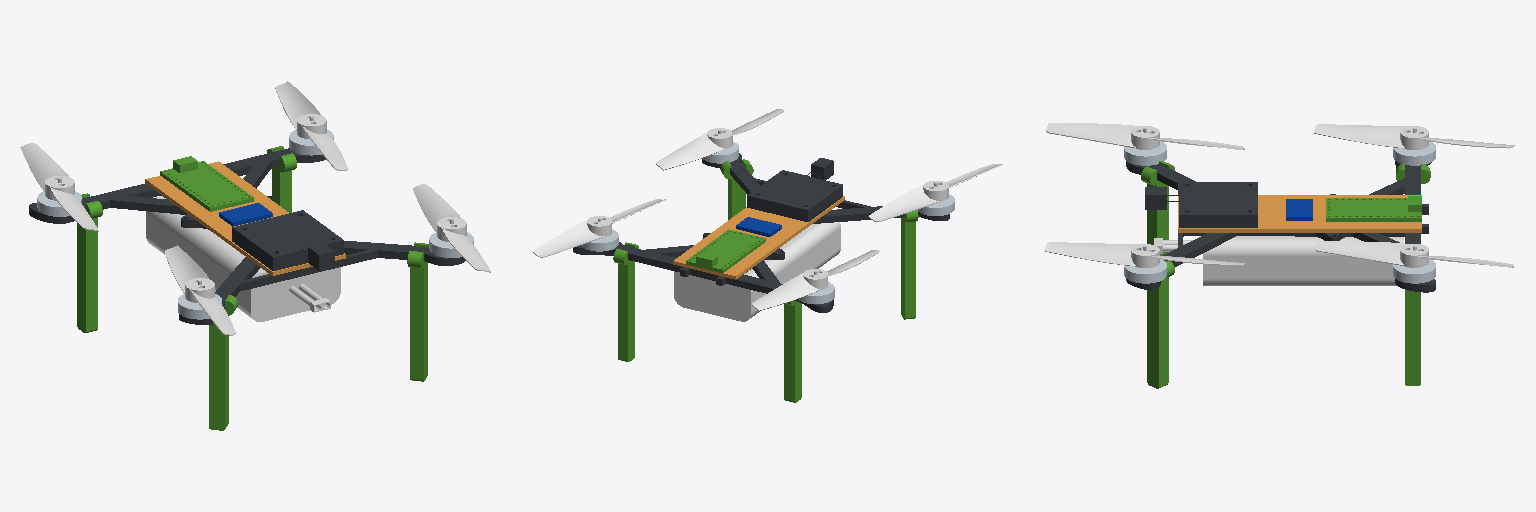
The robot description file, URDF, robot "drone":
<!--URDF generated by ONSHAPE BY PTC INC, 1.221-->
<robot name="drone">
    <link name="2s_battery">
        <inertial>
            <mass value="0.0532467" />
            <origin xyz="1.59347e-06 -0.000164896 -0.00949863" rpy="0 -0 0" />
            <inertia ixx="2.61483e-05" ixy="3.90327e-09" ixz="-3.24384e-11" iyy="7.2656e-06" iyz="3.35171e-09" izz="3.03586e-05" />
        </inertial>
        <visual>
            <origin xyz="-1.77369e-18 2.18447e-18 -0.019" rpy="0 -0 0" />
            <geometry>
                <mesh filename="package://f_drone_description/models/drone/meshes/_2S_Battery.stl" scale="1 1 1" />
            </geometry>
            <material name="0.901961_0.901961_0.901961_0.000000_0.000000">
                <color rgba="0.901961 0.901961 0.901961 1" />
            </material>
        </visual>
    </link>
    <link name="base_link">
        <inertial>
            <mass value="0.0116297" />
            <origin xyz="6.54761e-07 -7.1429e-07 0.0015" rpy="0 -0 0" />
            <inertia ixx="1.59005e-05" ixy="-2.0895e-09" ixz="-3.7681e-12" iyy="9.23466e-06" iyz="1.08237e-12" izz="2.51177e-05" />
        </inertial>
        <visual>
            <origin xyz="4.74355e-06 -0.00543751 0.003" rpy="0 -0 0" />
            <geometry>
                <mesh filename="package://f_drone_description/models/drone/meshes/base_link.stl" scale="1 1 1" />
            </geometry>
            <material name="0.262745_0.282353_0.301961_0.000000_0.000000">
                <color rgba="0.262745 0.282353 0.301961 1" />
            </material>
        </visual>
        <!-- Simple prisms for contact: one per leg, one around the body.
             Kept identical to the collisions in drone.sdf. -->
        <collision name="leg_1_collision">
            <origin xyz="-0.0404 0.0420 -0.0215" rpy="0 0 0" />
            <geometry>
                <box size="0.0050 0.0129 0.0510" />
            </geometry>
        </collision>
        <collision name="leg_2_collision">
            <origin xyz="-0.0411 -0.0521 -0.0215" rpy="0 0 0" />
            <geometry>
                <box size="0.0126 0.0126 0.0510" />
            </geometry>
        </collision>
        <collision name="leg_3_collision">
            <origin xyz="0.0390 0.0420 -0.0215" rpy="0 0 0" />
            <geometry>
                <box size="0.0050 0.0129 0.0510" />
            </geometry>
        </collision>
        <collision name="leg_4_collision">
            <origin xyz="0.0406 -0.0521 -0.0215" rpy="0 0 0" />
            <geometry>
                <box size="0.0126 0.0126 0.0510" />
            </geometry>
        </collision>
        <collision name="body_collision">
            <origin xyz="0.0000 -0.0070 -0.0022" rpy="0 0 0" />
            <geometry>
                <box size="0.1215 0.1151 0.0335" />
            </geometry>
        </collision>
    </link>
    <link name="custom_pcb">
        <inertial>
            <mass value="0.00784215" />
            <origin xyz="1.31008e-18 -3.45734e-18 -0.000785" rpy="0 -0 0" />
            <inertia ixx="5.29506e-06" ixy="0" ixz="0" iyy="5.89772e-07" iyz="0" izz="5.88161e-06" />
        </inertial>
        <visual>
            <origin xyz="6.82646e-19 -1.92747e-18 -0.00157" rpy="0 -0 0" />
            <geometry>
                <mesh filename="package://f_drone_description/models/drone/meshes/Custom_PCB.stl" scale="1 1 1" />
            </geometry>
            <material name="0.913725_0.647059_0.329412_0.000000_0.000000">
                <color rgba="0.913725 0.647059 0.329412 1" />
            </material>
        </visual>
    </link>
    <link name="esc">
        <inertial>
            <mass value="0.00901788" />
            <origin xyz="2.28177e-05 -0.00149333 0.0029295" rpy="0 -0 0" />
            <inertia ixx="9.01321e-07" ixy="4.40073e-09" ixz="-5.28974e-10" iyy="6.12144e-07" iyz="3.46183e-08" izz="1.45876e-06" />
        </inertial>
        <visual>
            <origin xyz="-2.61555e-19 1.43985e-18 0" rpy="0 -0 0" />
            <geometry>
                <mesh filename="package://f_drone_description/models/drone/meshes/ESC.stl" scale="1 1 1" />
            </geometry>
            <material name="0.262745_0.282353_0.301961_0.000000_0.000000">
                <color rgba="0.262745 0.282353 0.301961 1" />
            </material>
        </visual>
    </link>
    <link name="imu">
        <inertial>
            <mass value="0.000475612" />
            <origin xyz="1.66388e-18 -6.88156e-19 0.000785" rpy="0 -0 0" />
            <inertia ixx="4.06113e-09" ixy="0" ixz="0" iyy="1.07253e-08" iyz="0" izz="1.4591e-08" />
        </inertial>
        <visual>
            <origin xyz="8.59499e-19 -4.82235e-19 0" rpy="0 -0 0" />
            <geometry>
                <mesh filename="package://f_drone_description/models/drone/meshes/IMU.stl" scale="1 1 1" />
            </geometry>
            <material name="0.086275_0.317647_0.690196_0.000000_0.000000">
                <color rgba="0.0862745 0.317647 0.690196 1" />
            </material>
        </visual>
    </link>
    <link name="leg">
        <inertial>
            <mass value="0.0020002" />
            <origin xyz="-1.30104e-18 -0.0208754 4.33681e-19" rpy="0 -0 0" />
            <inertia ixx="4.4642e-07" ixy="0" ixz="0" iyy="1.39298e-08" iyz="0" izz="4.52016e-07" />
        </inertial>
        <visual>
            <origin xyz="0.003 -0.0475116 -0.0025" rpy="0 -0 0" />
            <geometry>
                <mesh filename="package://f_drone_description/models/drone/meshes/Leg.stl" scale="1 1 1" />
            </geometry>
            <material name="0.372549_0.654902_0.239216_0.000000_0.000000">
                <color rgba="0.372549 0.654902 0.239216 1" />
            </material>
        </visual>
    </link>
    <link name="leg_1">
        <inertial>
            <mass value="0.0020002" />
            <origin xyz="-1.30104e-18 -0.0208754 4.33681e-19" rpy="0 -0 0" />
            <inertia ixx="4.4642e-07" ixy="0" ixz="0" iyy="1.39298e-08" iyz="0" izz="4.52016e-07" />
        </inertial>
        <visual>
            <origin xyz="0.003 -0.0475116 -0.0025" rpy="0 -0 0" />
            <geometry>
                <mesh filename="package://f_drone_description/models/drone/meshes/Leg.stl" scale="1 1 1" />
            </geometry>
            <material name="0.372549_0.654902_0.239216_0.000000_0.000000">
                <color rgba="0.372549 0.654902 0.239216 1" />
            </material>
        </visual>
    </link>
    <link name="leg_2">
        <inertial>
            <mass value="0.0020002" />
            <origin xyz="-1.30104e-18 -0.0208754 4.33681e-19" rpy="0 -0 0" />
            <inertia ixx="4.4642e-07" ixy="0" ixz="0" iyy="1.39298e-08" iyz="0" izz="4.52016e-07" />
        </inertial>
        <visual>
            <origin xyz="0.003 -0.0475116 -0.0025" rpy="0 -0 0" />
            <geometry>
                <mesh filename="package://f_drone_description/models/drone/meshes/Leg.stl" scale="1 1 1" />
            </geometry>
            <material name="0.372549_0.654902_0.239216_0.000000_0.000000">
                <color rgba="0.372549 0.654902 0.239216 1" />
            </material>
        </visual>
    </link>
    <link name="leg_3">
        <inertial>
            <mass value="0.0020002" />
            <origin xyz="-1.30104e-18 -0.0208754 4.33681e-19" rpy="0 -0 0" />
            <inertia ixx="4.4642e-07" ixy="0" ixz="0" iyy="1.39298e-08" iyz="0" izz="4.52016e-07" />
        </inertial>
        <visual>
            <origin xyz="0.003 -0.0475116 -0.0025" rpy="0 -0 0" />
            <geometry>
                <mesh filename="package://f_drone_description/models/drone/meshes/Leg.stl" scale="1 1 1" />
            </geometry>
            <material name="0.372549_0.654902_0.239216_0.000000_0.000000">
                <color rgba="0.372549 0.654902 0.239216 1" />
            </material>
        </visual>
    </link>
    <link name="mate_connector_1">
        <inertial>
            <mass value="1e-09" />
            <origin xyz="0 0 0" rpy="0 -0 0" />
            <inertia ixx="4e-14" ixy="0" ixz="0" iyy="4e-14" iyz="0" izz="4e-14" />
        </inertial>
    </link>
    <link name="mate_connector_2">
        <inertial>
            <mass value="1e-09" />
            <origin xyz="0 0 0" rpy="0 -0 0" />
            <inertia ixx="4e-14" ixy="0" ixz="0" iyy="4e-14" iyz="0" izz="4e-14" />
        </inertial>
    </link>
    <link name="mate_connector_3">
        <inertial>
            <mass value="1e-09" />
            <origin xyz="0 0 0" rpy="0 -0 0" />
            <inertia ixx="4e-14" ixy="0" ixz="0" iyy="4e-14" iyz="0" izz="4e-14" />
        </inertial>
    </link>
    <link name="mate_connector_4">
        <inertial>
            <mass value="1e-09" />
            <origin xyz="0 0 0" rpy="0 -0 0" />
            <inertia ixx="4e-14" ixy="0" ixz="0" iyy="4e-14" iyz="0" izz="4e-14" />
        </inertial>
    </link>
    <link name="mcu">
        <inertial>
            <mass value="0.00197409" />
            <origin xyz="-5.57695e-20 0.001637 0.0010353" rpy="0 -0 0" />
            <inertia ixx="2.2942e-07" ixy="0" ixz="0" iyy="4.70673e-08" iyz="-6.6884e-09" izz="2.73384e-07" />
        </inertial>
        <visual>
            <origin xyz="3.27972e-20 -0.000106928 0" rpy="0 -0 0" />
            <geometry>
                <mesh filename="package://f_drone_description/models/drone/meshes/MCU.stl" scale="1 1 1" />
            </geometry>
            <material name="0.372549_0.654902_0.239216_0.000000_0.000000">
                <color rgba="0.372549 0.654902 0.239216 1" />
            </material>
        </visual>
    </link>
    <link name="motor">
        <inertial>
            <mass value="0.00211501" />
            <origin xyz="1.17428e-19 -1.45553e-06 0.00197962" rpy="0 -0 0" />
            <inertia ixx="3.64442e-08" ixy="0" ixz="0" iyy="3.6444e-08" iyz="1.7379e-11" izz="6.51376e-08" />
        </inertial>
        <visual>
            <origin xyz="0 -4.8496e-19 0" rpy="0 -0 0" />
            <geometry>
                <mesh filename="package://f_drone_description/models/drone/meshes/Motor.stl" scale="1 1 1" />
            </geometry>
            <material name="0.811765_0.858824_0.898039_0.000000_0.000000">
                <color rgba="0.811765 0.858824 0.898039 1" />
            </material>
        </visual>
    </link>
    <link name="motor_1">
        <inertial>
            <mass value="0.00211501" />
            <origin xyz="1.17428e-19 -1.45553e-06 0.00197962" rpy="0 -0 0" />
            <inertia ixx="3.64442e-08" ixy="0" ixz="0" iyy="3.6444e-08" iyz="1.7379e-11" izz="6.51376e-08" />
        </inertial>
        <visual>
            <origin xyz="0 -4.8496e-19 0" rpy="0 -0 0" />
            <geometry>
                <mesh filename="package://f_drone_description/models/drone/meshes/Motor.stl" scale="1 1 1" />
            </geometry>
            <material name="0.811765_0.858824_0.898039_0.000000_0.000000">
                <color rgba="0.811765 0.858824 0.898039 1" />
            </material>
        </visual>
    </link>
    <link name="motor_2">
        <inertial>
            <mass value="0.00211501" />
            <origin xyz="1.17428e-19 -1.45553e-06 0.00197962" rpy="0 -0 0" />
            <inertia ixx="3.64442e-08" ixy="0" ixz="0" iyy="3.6444e-08" iyz="1.7379e-11" izz="6.51376e-08" />
        </inertial>
        <visual>
            <origin xyz="0 -4.8496e-19 0" rpy="0 -0 0" />
            <geometry>
                <mesh filename="package://f_drone_description/models/drone/meshes/Motor.stl" scale="1 1 1" />
            </geometry>
            <material name="0.811765_0.858824_0.898039_0.000000_0.000000">
                <color rgba="0.811765 0.858824 0.898039 1" />
            </material>
        </visual>
    </link>
    <link name="motor_3">
        <inertial>
            <mass value="0.00211501" />
            <origin xyz="1.17428e-19 -1.45553e-06 0.00197962" rpy="0 -0 0" />
            <inertia ixx="3.64442e-08" ixy="0" ixz="0" iyy="3.6444e-08" iyz="1.7379e-11" izz="6.51376e-08" />
        </inertial>
        <visual>
            <origin xyz="0 -4.8496e-19 0" rpy="0 -0 0" />
            <geometry>
                <mesh filename="package://f_drone_description/models/drone/meshes/Motor.stl" scale="1 1 1" />
            </geometry>
            <material name="0.811765_0.858824_0.898039_0.000000_0.000000">
                <color rgba="0.811765 0.858824 0.898039 1" />
            </material>
        </visual>
    </link>
    <link name="prop__1_">
        <inertial>
            <mass value="1.21853e-07" />
            <origin xyz="0.0181997 -0.000272936 -0.000247424" rpy="0 -0 0" />
            <inertia ixx="8.56809e-13" ixy="1.23767e-13" ixz="-1.04604e-14" iyy="1.14285e-11" iyz="2.6944e-13" izz="1.20665e-11" />
        </inertial>
        <visual>
            <origin xyz="0 0 0" rpy="0 -0 1.79706" />
            <geometry>
                <mesh filename="package://f_drone_description/models/drone/meshes/_.stl" scale="1 1 1" />
            </geometry>
            <material name="0.910000_0.910000_0.910000_0.000000_0.000000">
                <color rgba="0.91 0.91 0.91 1" />
            </material>
        </visual>
        <visual>
            <origin xyz="0 0 0" rpy="0 -0 1.79706" />
            <geometry>
                <mesh filename="package://f_drone_description/models/drone/meshes/__1.stl" scale="1 1 1" />
            </geometry>
            <material name="0.910000_0.910000_0.910000_0.000000_0.000000">
                <texture />
                <color rgba="0.91 0.91 0.91 1" />
            </material>
        </visual>
        <visual>
            <origin xyz="0 0 0" rpy="0 -0 1.79706" />
            <geometry>
                <mesh filename="package://f_drone_description/models/drone/meshes/__2.stl" scale="1 1 1" />
            </geometry>
            <material name="0.910000_0.910000_0.910000_0.000000_0.000000">
                <texture />
                <color rgba="0.91 0.91 0.91 1" />
            </material>
        </visual>
    </link>
    <link name="prop__2_">
        <inertial>
            <mass value="1.21853e-07" />
            <origin xyz="0.0181997 -0.000272936 -0.000247424" rpy="0 -0 0" />
            <inertia ixx="8.56809e-13" ixy="1.23767e-13" ixz="-1.04604e-14" iyy="1.14285e-11" iyz="2.6944e-13" izz="1.20665e-11" />
        </inertial>
        <visual>
            <origin xyz="0 0 0" rpy="0 0 -1.79973" />
            <geometry>
                <mesh filename="package://f_drone_description/models/drone/meshes/_.stl" scale="1 1 1" />
            </geometry>
            <material name="0.910000_0.910000_0.910000_0.000000_0.000000">
                <color rgba="0.91 0.91 0.91 1" />
            </material>
        </visual>
        <visual>
            <origin xyz="0 0 0" rpy="0 0 -1.79973" />
            <geometry>
                <mesh filename="package://f_drone_description/models/drone/meshes/__1.stl" scale="1 1 1" />
            </geometry>
            <material name="0.910000_0.910000_0.910000_0.000000_0.000000">
                <texture />
                <color rgba="0.91 0.91 0.91 1" />
            </material>
        </visual>
        <visual>
            <origin xyz="0 0 0" rpy="0 0 -1.79973" />
            <geometry>
                <mesh filename="package://f_drone_description/models/drone/meshes/__2.stl" scale="1 1 1" />
            </geometry>
            <material name="0.910000_0.910000_0.910000_0.000000_0.000000">
                <texture />
                <color rgba="0.91 0.91 0.91 1" />
            </material>
        </visual>
    </link>
    <link name="prop__3_">
        <inertial>
            <mass value="1.21853e-07" />
            <origin xyz="0.0181997 -0.000272936 -0.000247424" rpy="0 -0 0" />
            <inertia ixx="8.56809e-13" ixy="1.23767e-13" ixz="-1.04604e-14" iyy="1.14285e-11" iyz="2.6944e-13" izz="1.20665e-11" />
        </inertial>
        <visual>
            <origin xyz="0 0 0" rpy="0 0 -1.7925" />
            <geometry>
                <mesh filename="package://f_drone_description/models/drone/meshes/_.stl" scale="1 1 1" />
            </geometry>
            <material name="0.910000_0.910000_0.910000_0.000000_0.000000">
                <color rgba="0.91 0.91 0.91 1" />
            </material>
        </visual>
        <visual>
            <origin xyz="0 0 0" rpy="0 0 -1.7925" />
            <geometry>
                <mesh filename="package://f_drone_description/models/drone/meshes/__1.stl" scale="1 1 1" />
            </geometry>
            <material name="0.910000_0.910000_0.910000_0.000000_0.000000">
                <texture />
                <color rgba="0.91 0.91 0.91 1" />
            </material>
        </visual>
        <visual>
            <origin xyz="0 0 0" rpy="0 0 -1.7925" />
            <geometry>
                <mesh filename="package://f_drone_description/models/drone/meshes/__2.stl" scale="1 1 1" />
            </geometry>
            <material name="0.910000_0.910000_0.910000_0.000000_0.000000">
                <texture />
                <color rgba="0.91 0.91 0.91 1" />
            </material>
        </visual>
    </link>
    <link name="prop__4_">
        <inertial>
            <mass value="1.21853e-07" />
            <origin xyz="0.0181997 -0.000272936 -0.000247424" rpy="0 -0 0" />
            <inertia ixx="8.56809e-13" ixy="1.23767e-13" ixz="-1.04604e-14" iyy="1.14285e-11" iyz="2.6944e-13" izz="1.20665e-11" />
        </inertial>
        <visual>
            <origin xyz="0 0 0" rpy="0 -0 1.79515" />
            <geometry>
                <mesh filename="package://f_drone_description/models/drone/meshes/_.stl" scale="1 1 1" />
            </geometry>
            <material name="0.910000_0.910000_0.910000_0.000000_0.000000">
                <color rgba="0.91 0.91 0.91 1" />
            </material>
        </visual>
        <visual>
            <origin xyz="0 0 0" rpy="0 -0 1.79515" />
            <geometry>
                <mesh filename="package://f_drone_description/models/drone/meshes/__1.stl" scale="1 1 1" />
            </geometry>
            <material name="0.910000_0.910000_0.910000_0.000000_0.000000">
                <texture />
                <color rgba="0.91 0.91 0.91 1" />
            </material>
        </visual>
        <visual>
            <origin xyz="0 0 0" rpy="0 -0 1.79515" />
            <geometry>
                <mesh filename="package://f_drone_description/models/drone/meshes/__2.stl" scale="1 1 1" />
            </geometry>
            <material name="0.910000_0.910000_0.910000_0.000000_0.000000">
                <texture />
                <color rgba="0.91 0.91 0.91 1" />
            </material>
        </visual>
    </link>
    <link name="root" />
    <joint name="dof_motor_prop_1" type="continuous">
        <origin xyz="-4.16334e-17 -7.99931e-05 0.0075" rpy="3.14159 -0 -4.71845e-16" />
        <axis xyz="0 0 -1" />
        <parent link="motor_1" />
        <child link="prop__1_" />
    </joint>
    <joint name="dof_motor_prop_2" type="continuous">
        <origin xyz="-4.16334e-17 -7.99931e-05 0.007625" rpy="0 -0 1.94289e-16" />
        <axis xyz="0 0 1" />
        <parent link="motor" />
        <child link="prop__2_" />
    </joint>
    <joint name="dof_motor_prop_3" type="continuous">
        <origin xyz="-2.77556e-17 -7.99931e-05 0.007625" rpy="0 -0 0" />
        <axis xyz="0 0 1" />
        <parent link="motor_3" />
        <child link="prop__3_" />
    </joint>
    <joint name="dof_motor_prop_4" type="continuous">
        <origin xyz="-2.77556e-17 -7.99931e-05 0.0075" rpy="3.14159 -0 1.94289e-16" />
        <axis xyz="0 0 -1" />
        <parent link="motor_2" />
        <child link="prop__4_" />
    </joint>
    <joint name="fix_base_link" type="fixed">
        <origin xyz="1.855e-19 0 0" rpy="0 -0 0" />
        <axis xyz="0 0 -1" />
        <parent link="root" />
        <child link="base_link" />
    </joint>
    <joint name="fix_battery" type="fixed">
        <origin xyz="4.74355e-06 0.00156249 0" rpy="0 -0 0" />
        <axis xyz="0 0 1" />
        <parent link="base_link" />
        <child link="2s_battery" />
    </joint>
    <joint name="fix_esc" type="fixed">
        <origin xyz="1.02237e-17 -0.03 0" rpy="0 -0 0" />
        <axis xyz="0 0 -1" />
        <parent link="custom_pcb" />
        <child link="esc" />
    </joint>
    <joint name="fix_imu" type="fixed">
        <origin xyz="0 -5.69206e-19 0" rpy="0 -0 0" />
        <axis xyz="0 0 -1" />
        <parent link="custom_pcb" />
        <child link="imu" />
    </joint>
    <joint name="fix_leg1" type="fixed">
        <origin xyz="-0.040409 0.0419941 0" rpy="1.5708 -0 -1.5708" />
        <axis xyz="0 1 0" />
        <parent link="base_link" />
        <child link="leg" />
    </joint>
    <joint name="fix_leg2" type="fixed">
        <origin xyz="-0.0411261 -0.0521087 0" rpy="1.5708 -0 -0.785398" />
        <axis xyz="0 1 0" />
        <parent link="base_link" />
        <child link="leg_1" />
    </joint>
    <joint name="fix_leg3" type="fixed">
        <origin xyz="0.0389962 0.0419941 0" rpy="1.5708 -0 1.5708" />
        <axis xyz="0 1 0" />
        <parent link="base_link" />
        <child link="leg_3" />
    </joint>
    <joint name="fix_leg4" type="fixed">
        <origin xyz="0.0406356 -0.0521087 0" rpy="1.5708 8.32667e-16 -2.35619" />
        <axis xyz="0 1 0" />
        <parent link="base_link" />
        <child link="leg_2" />
    </joint>
    <joint name="fix_motor_1" type="fixed">
        <origin xyz="-0.0514453 0.0426084 0.003" rpy="0 -0 0" />
        <axis xyz="0 0 -1" />
        <parent link="base_link" />
        <child link="motor_1" />
    </joint>
    <joint name="fix_motor_2" type="fixed">
        <origin xyz="-0.0514453 -0.0566416 0.003" rpy="0 -0 0" />
        <axis xyz="0 0 -1" />
        <parent link="base_link" />
        <child link="motor" />
    </joint>
    <joint name="fix_motor_3" type="fixed">
        <origin xyz="0.0514547 0.0426084 0.003" rpy="0 -0 0" />
        <axis xyz="0 0 -1" />
        <parent link="base_link" />
        <child link="motor_3" />
    </joint>
    <joint name="fix_motor_4" type="fixed">
        <origin xyz="0.0514547 -0.0566416 0.003" rpy="0 -0 0" />
        <axis xyz="0 0 -1" />
        <parent link="base_link" />
        <child link="motor_2" />
    </joint>
    <joint name="fix_pcb" type="fixed">
        <origin xyz="4.74355e-06 0.000103915 0.00455" rpy="0 -0 0" />
        <axis xyz="0 0 1" />
        <parent link="base_link" />
        <child link="custom_pcb" />
    </joint>
    <joint name="fix_teensy" type="fixed">
        <origin xyz="-7.12355e-18 0.0275 0" rpy="0 -0 0" />
        <axis xyz="0 0 -1" />
        <parent link="custom_pcb" />
        <child link="mcu" />
    </joint>
    <joint name="mate_connector_1" type="fixed">
        <origin xyz="-0.040409 0.0419941 3.90313e-18" rpy="0 -0 0" />
        <axis xyz="0 0 1" />
        <parent link="base_link" />
        <child link="mate_connector_1" />
    </joint>
    <joint name="mate_connector_2" type="fixed">
        <origin xyz="-0.0361764 -0.047159 3.90313e-18" rpy="3.14159 -0 -0.785398" />
        <axis xyz="0 0 1" />
        <parent link="base_link" />
        <child link="mate_connector_2" />
    </joint>
    <joint name="mate_connector_3" type="fixed">
        <origin xyz="0.0389962 0.0419941 3.90313e-18" rpy="3.14159 -0 0" />
        <axis xyz="0 0 1" />
        <parent link="base_link" />
        <child link="mate_connector_3" />
    </joint>
    <joint name="mate_connector_4" type="fixed">
        <origin xyz="0.0356858 -0.047159 3.90313e-18" rpy="3.14159 -0 -0.785398" />
        <axis xyz="0 0 1" />
        <parent link="base_link" />
        <child link="mate_connector_4" />
    </joint>
</robot>

--- What the picture shows (computed from the rendered views, not written in the file) ---
Views: 3 orthographic renders of the robot side by side, from view 1: azimuth 30°, elevation 25°; view 2: azimuth 150°, elevation 25°; view 3: azimuth 270°, elevation 25°.
Robot: drone — 23 links, 22 joints (4 continuous, 18 fixed); root link root; default pose: every joint at zero.
Visible links, largest first — view 1: 2s_battery, base_link, esc, custom_pcb, mcu, leg, leg_2, prop__3_, prop__4_, prop__2_, prop__1_, leg_1 (+5 smaller); view 2: 2s_battery, base_link, esc, custom_pcb, leg_3, mcu, prop__4_, prop__2_, prop__1_, prop__3_, leg, leg_1 (+2 smaller); view 3: 2s_battery, base_link, esc, custom_pcb, prop__3_, prop__2_, prop__1_, prop__4_, leg_2, mcu, leg_3, leg_1 (+5 smaller).
Link boxes in pixels (box(x1,y1,x2,y2)): 2s_battery: box(146, 196, 340, 321); base_link: box(29, 148, 465, 324); esc: box(232, 210, 343, 270); custom_pcb: box(145, 161, 345, 275); mcu: box(160, 156, 253, 211); leg: box(77, 193, 102, 332); leg_2: box(407, 242, 428, 381); prop__3_: box(275, 81, 347, 170); prop__4_: box(413, 184, 490, 272); prop__2_: box(165, 245, 235, 335); prop__1_: box(20, 143, 98, 231); leg_1: box(209, 295, 237, 430); 2s_battery: box(674, 222, 840, 321); base_link: box(573, 153, 949, 312); esc: box(747, 158, 842, 221); custom_pcb: box(673, 196, 844, 279); leg_3: box(613, 242, 638, 361); mcu: box(686, 229, 765, 272); prop__4_: box(656, 109, 783, 170); prop__2_: box(868, 164, 1002, 221); prop__1_: box(752, 250, 879, 310); prop__3_: box(533, 199, 666, 257); leg: box(784, 300, 801, 402); leg_1: box(901, 210, 918, 319); 2s_battery: box(1154, 236, 1403, 285); base_link: box(1126, 161, 1435, 292); esc: box(1145, 182, 1257, 227); custom_pcb: box(1178, 195, 1421, 232); prop__3_: box(1315, 241, 1513, 267); prop__2_: box(1046, 123, 1244, 149); prop__1_: box(1314, 124, 1514, 149); prop__4_: box(1045, 242, 1245, 267); leg_2: box(1147, 261, 1174, 388); mcu: box(1326, 196, 1421, 221); leg_3: box(1405, 290, 1420, 385); leg_1: box(1141, 161, 1174, 255).
Bounding box of the posed robot: 0.1257 × 0.1737 × 0.0615 m (x, y, z).
26 mesh visuals loaded from 11 distinct referenced files (11 binary STL).
